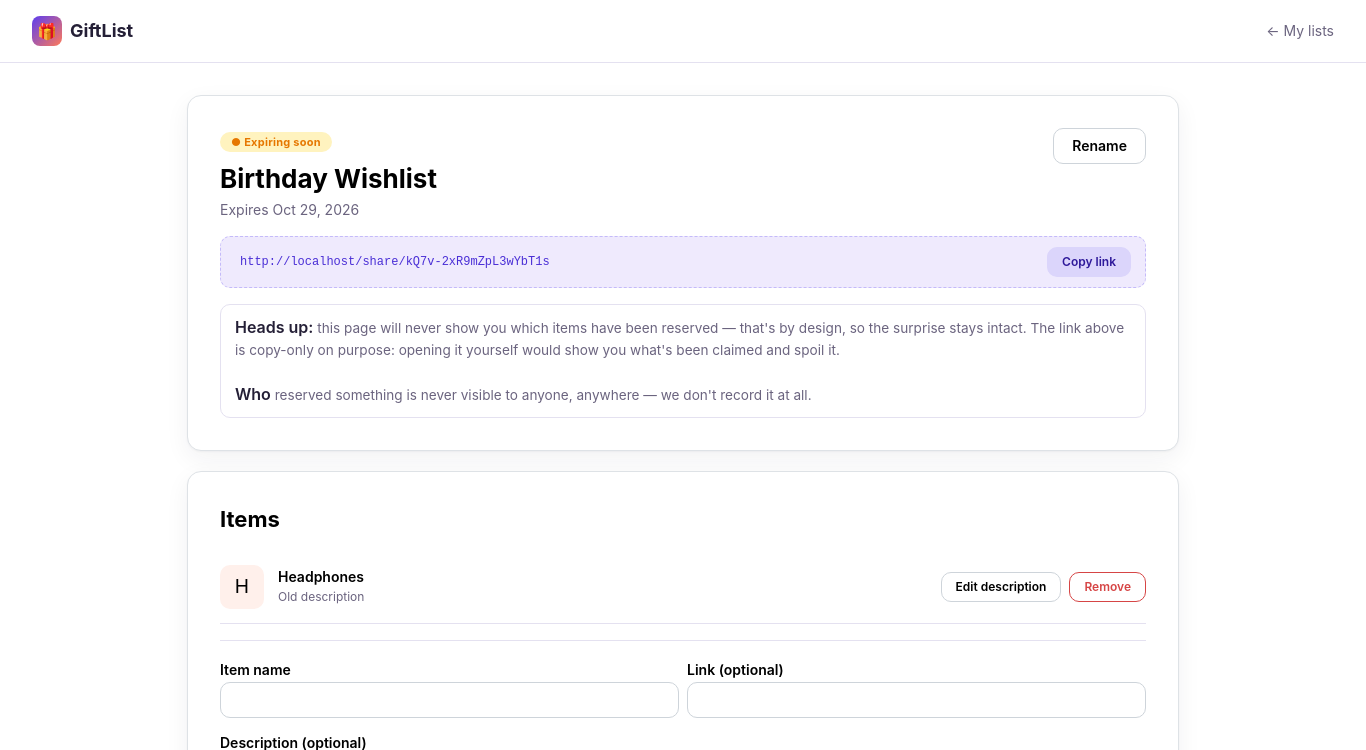
Test: ListDetailOwnerPage › ListDetailOwnerPage_ShouldShowTheNotConfirmedNoticeAndReenableSave_WhenTheDescriptionChangeCannotBeConfirmed
This screenshot has width=1366, height=750.
Click the button "Edit description": (1001, 587) [941,572,1061,602]
(page scrolled)
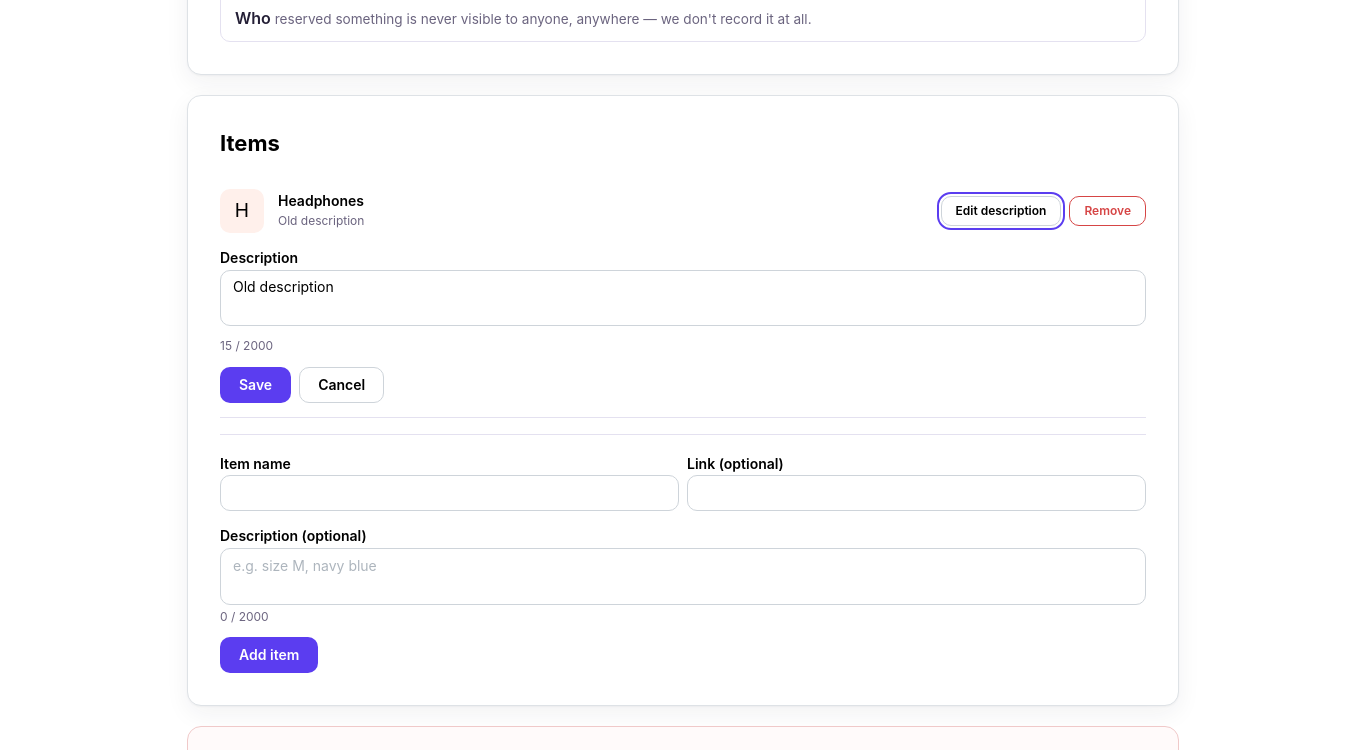
Click the button "Save": (256, 385) [220,367,291,403]
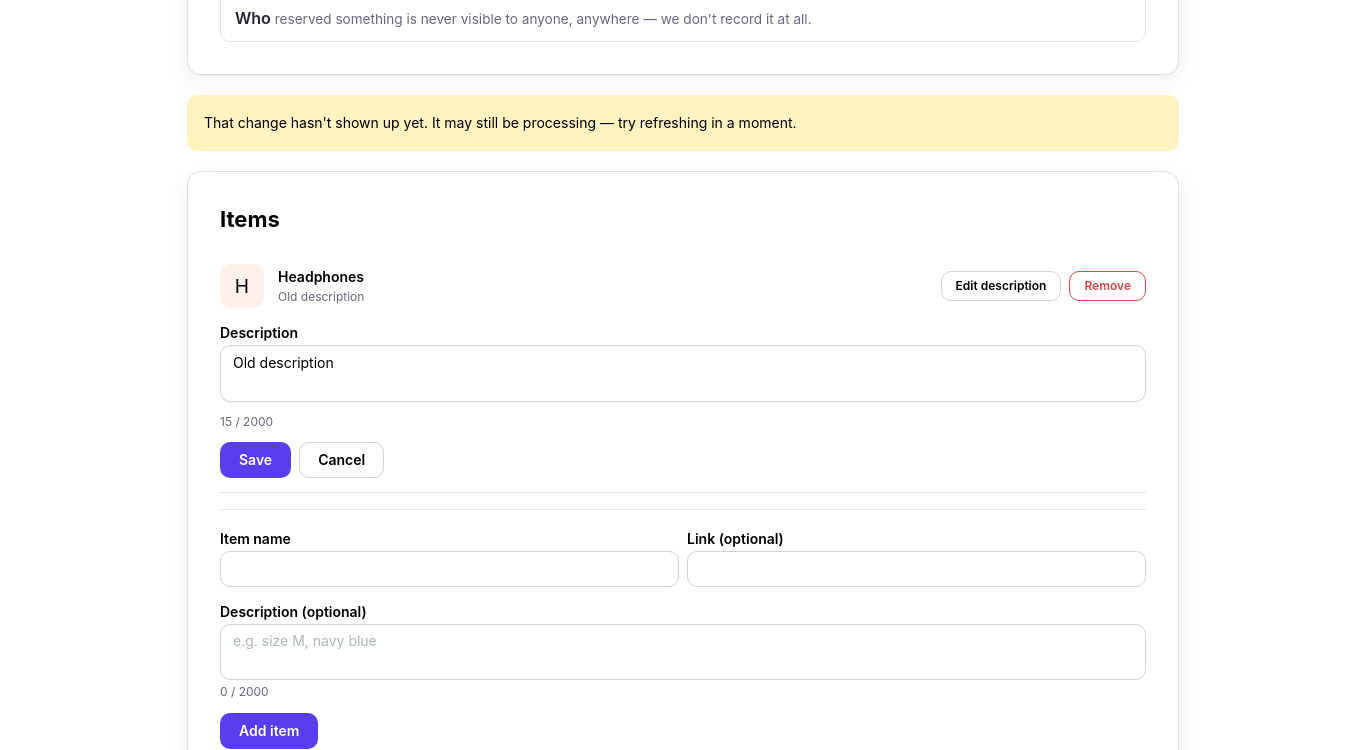
Now the button "Save" is enabled, box [220,442,291,478]
Now the message shows "hasn't shown up yet", box [204,114,797,131]
